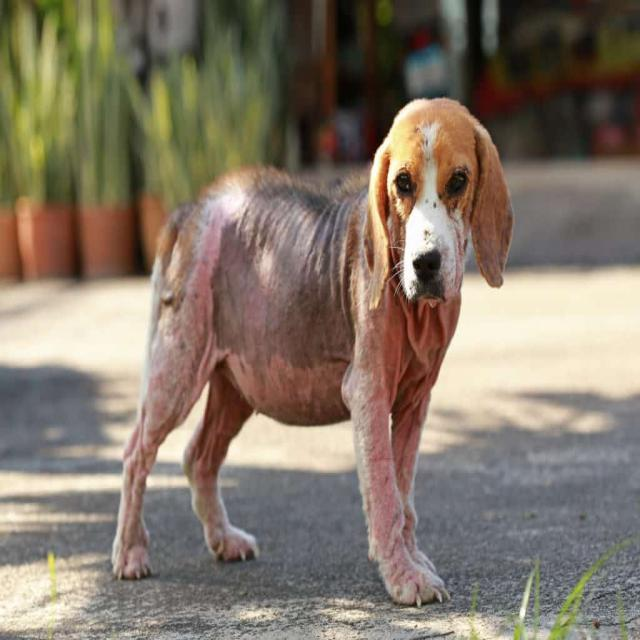mange: (176, 188, 382, 408), (350, 381, 413, 582), (337, 307, 399, 402), (141, 304, 198, 396)
